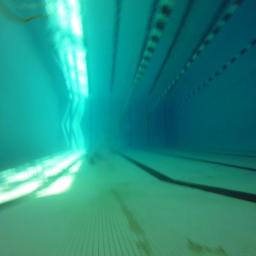Full: (87, 150, 102, 166)
